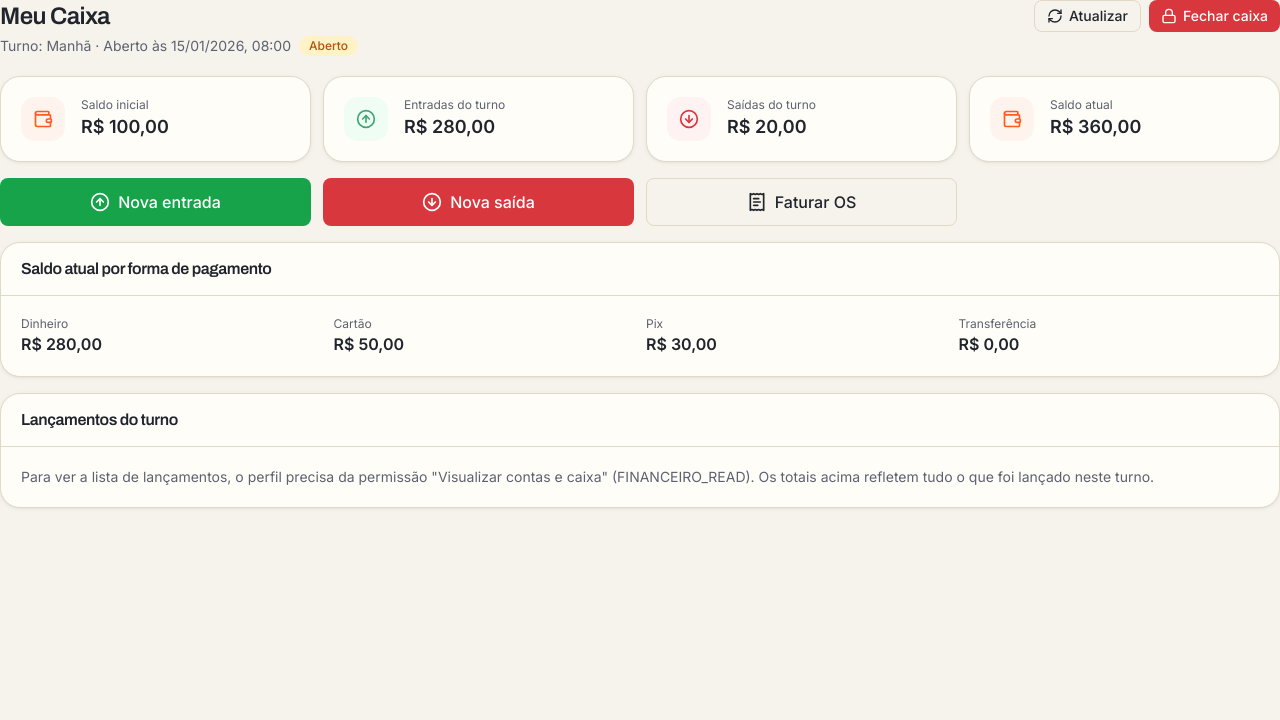
Scenario: MeuCaixaPage › opens the saída modal fixed to tipo SAIDA
Click the button "Nova saída" at [478, 202], box [323,178,634,226]
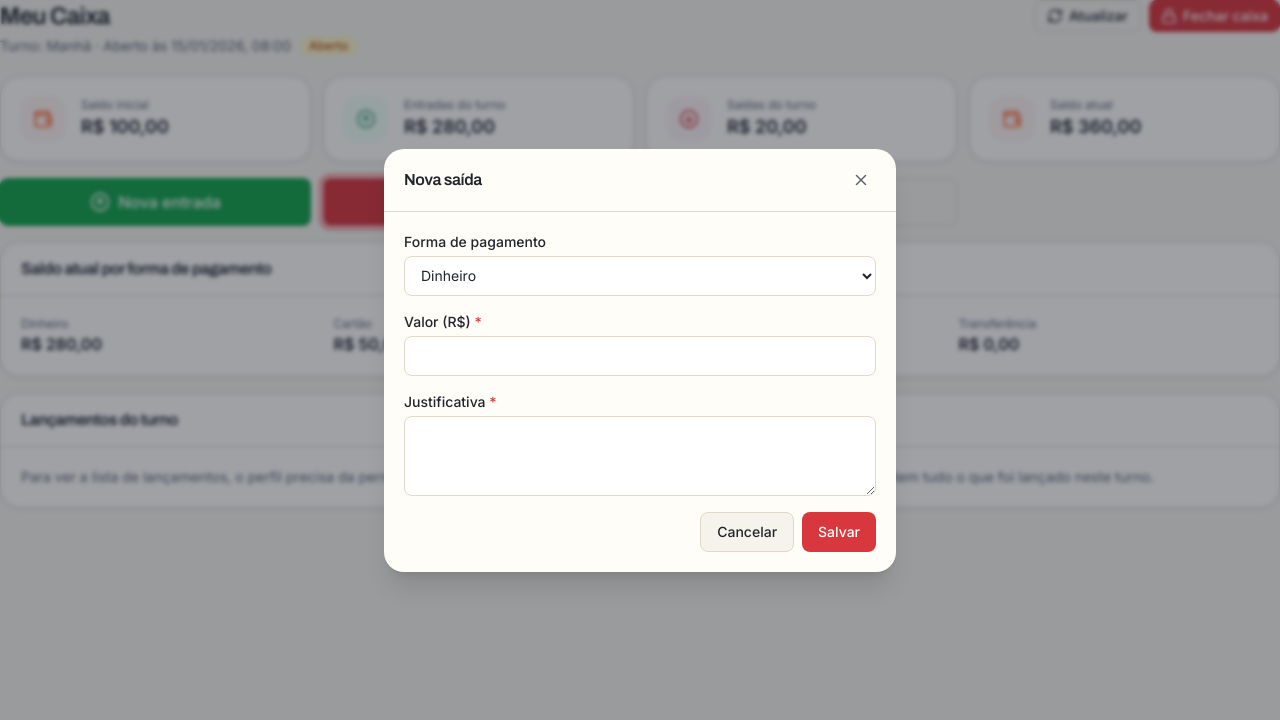
Expected: the heading "Nova saída" is shown, [404,168,482,192]
